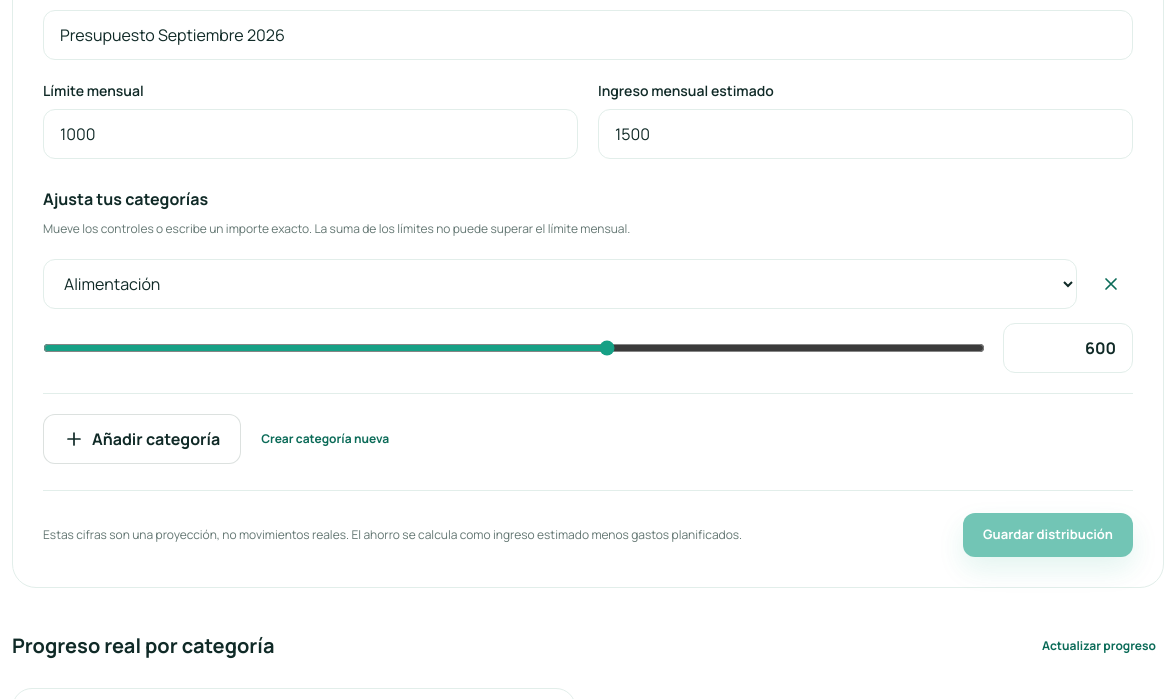
Scenario: keeps actual spending separate from live planned amounts
(page scrolled)
Replace the text in the field named "Límite categoría 1" with "750" at [1068, 348], box 1003,323 -> 1133,373
(page scrolled)
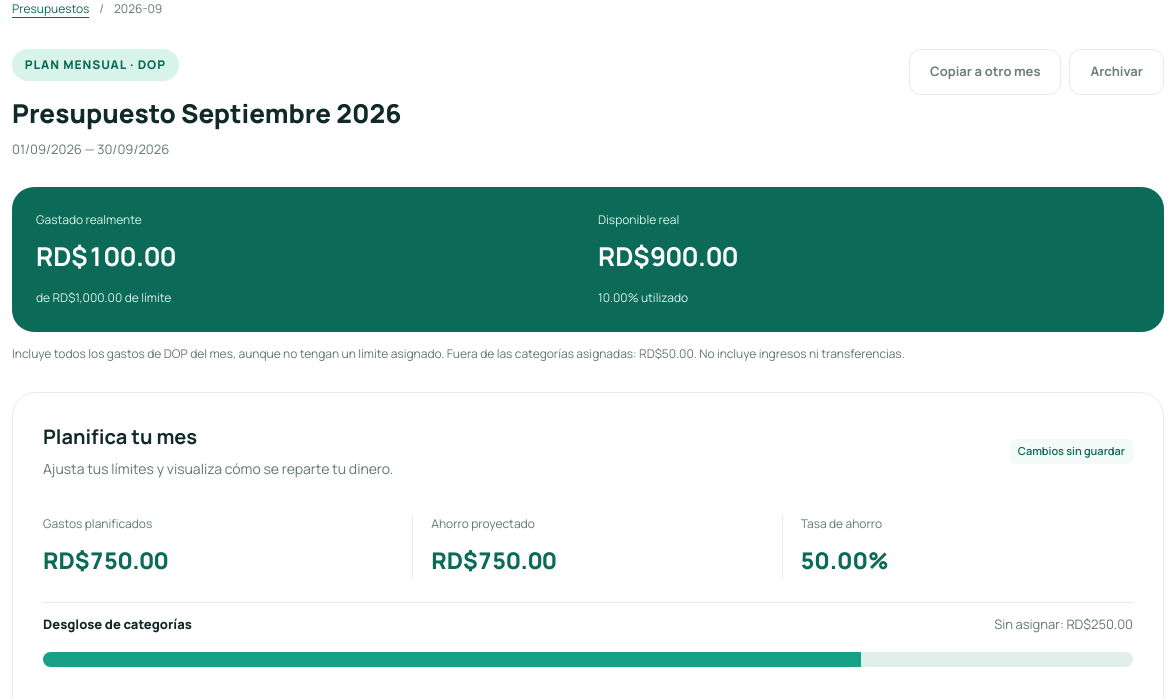
Check: the text "Cambios sin guardar" is shown, box 1010,439 -> 1133,464
Check: the button "Copiar a otro mes" is disabled, box 909,49 -> 1062,94
